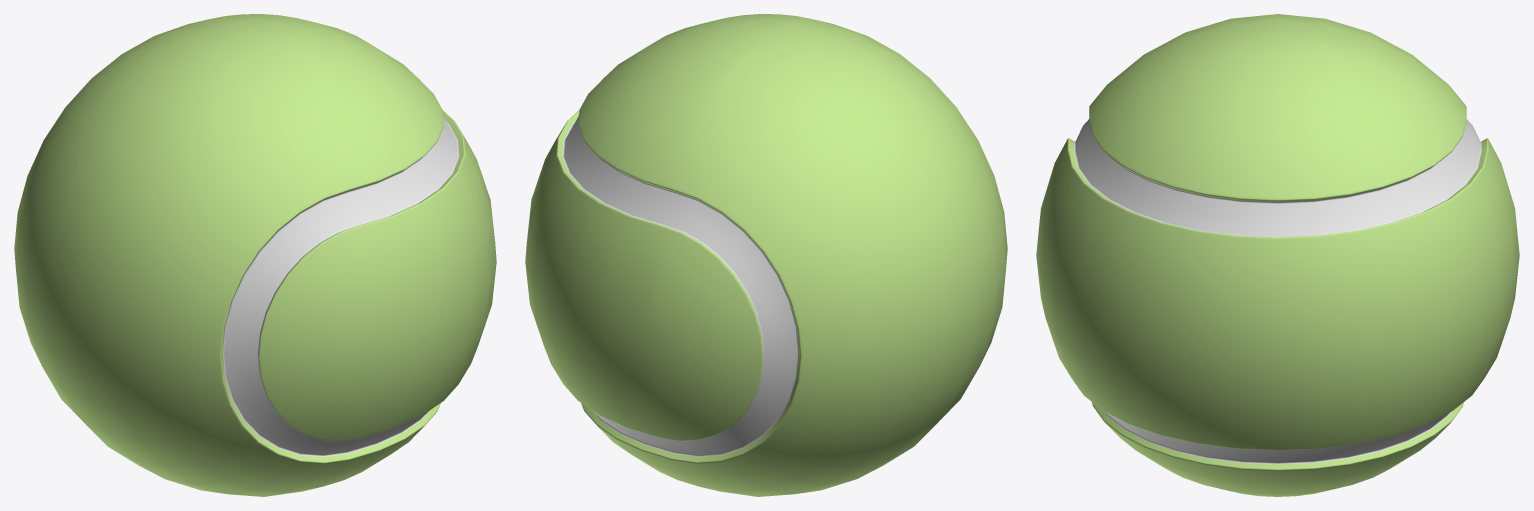
File: tennisBall.glb
3 renders of one model, left to right at view 1: azimuth 30°, elevation 25°; view 2: azimuth 150°, elevation 25°; view 3: azimuth 270°, elevation 25°, orthographic.
Visible parts, largest first — view 1: Sphere; view 2: Sphere; view 3: Sphere.
Boxes of the visible parts, x1,y1,x2,y2 form: Sphere: (14, 14, 496, 496); Sphere: (525, 14, 1007, 496); Sphere: (1036, 14, 1519, 496).
Bounding box in the file's own units: 2 × 2 × 2.
